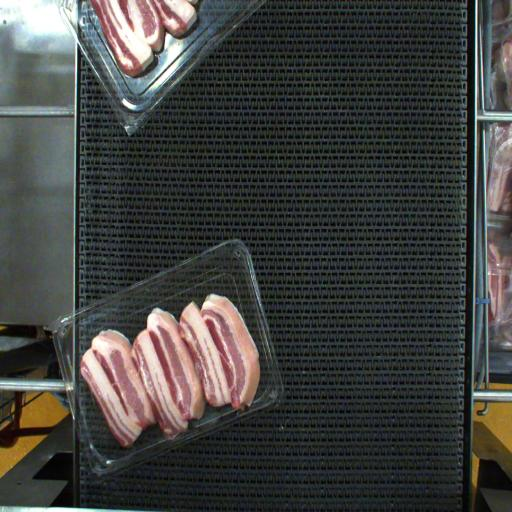packaging-error: (152, 398, 276, 446)
